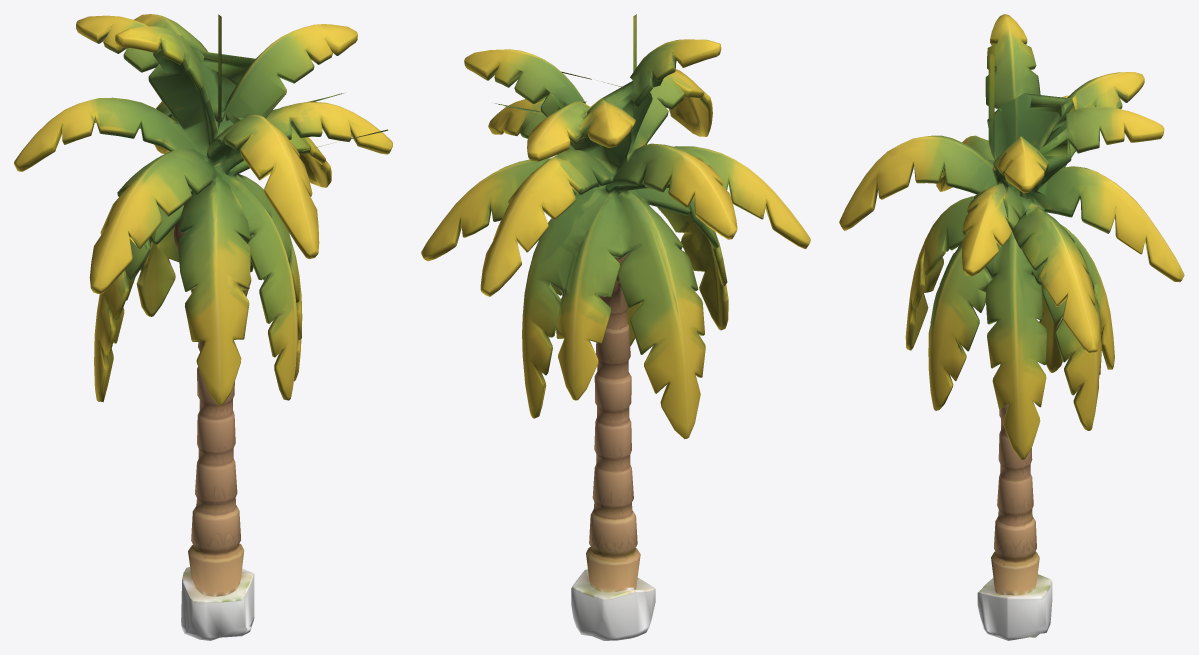
The model's file is PALMERA PARA USAR.fbx.
3 renders of one model, left to right at view 1: azimuth 30°, elevation 25°; view 2: azimuth 150°, elevation 25°; view 3: azimuth 270°, elevation 25°, orthographic. The views are drawn at different scales.
Visible parts, largest first — view 1: mesh_rep_0_ori_repair; view 2: mesh_rep_0_ori_repair; view 3: mesh_rep_0_ori_repair.
Boxes of the visible parts, x1,y1,x2,y2 form: mesh_rep_0_ori_repair: [14, 14, 392, 640]; mesh_rep_0_ori_repair: [421, 14, 810, 640]; mesh_rep_0_ori_repair: [839, 14, 1184, 640].
Bounding box in the file's own units: 490 × 913 × 503.
1 material, 1 textured.
